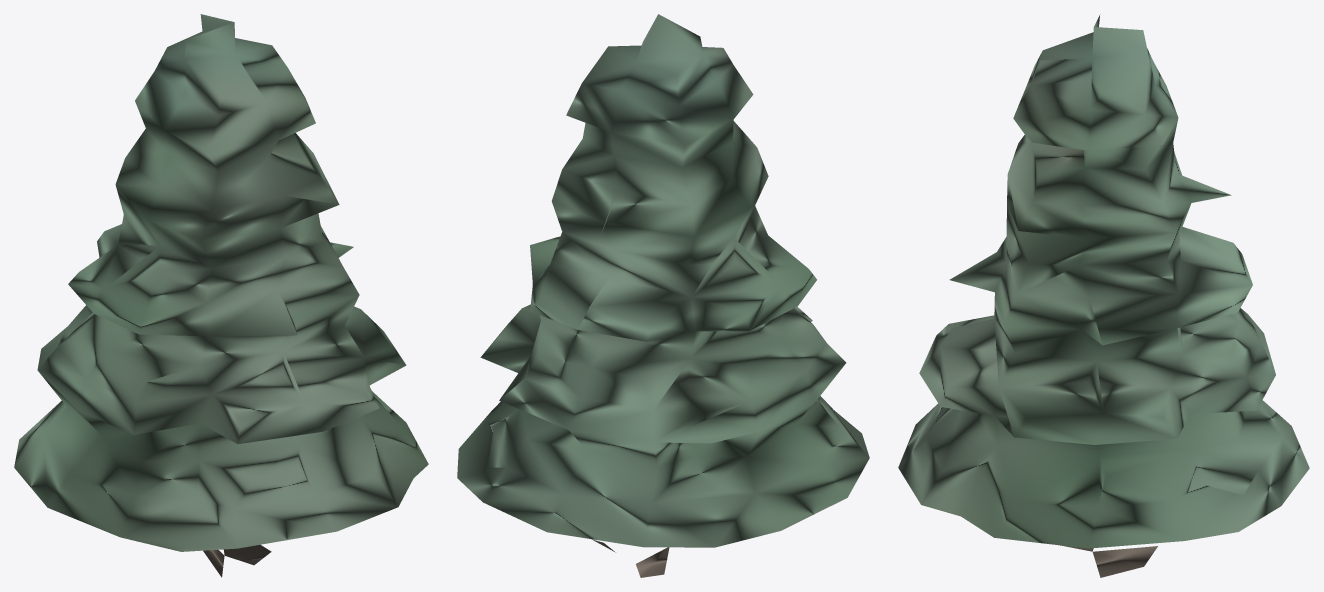
File: arvore_pinheiro.glb
The picture shows the model from 3 angles, left to right: view 1: azimuth 30°, elevation 25°; view 2: azimuth 150°, elevation 25°; view 3: azimuth 270°, elevation 25°; orthographic projection.
Bounding box in the file's own units: 5.04 × 7.5 × 5.04.
